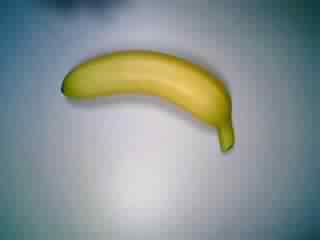banana: (58, 49, 239, 155)
